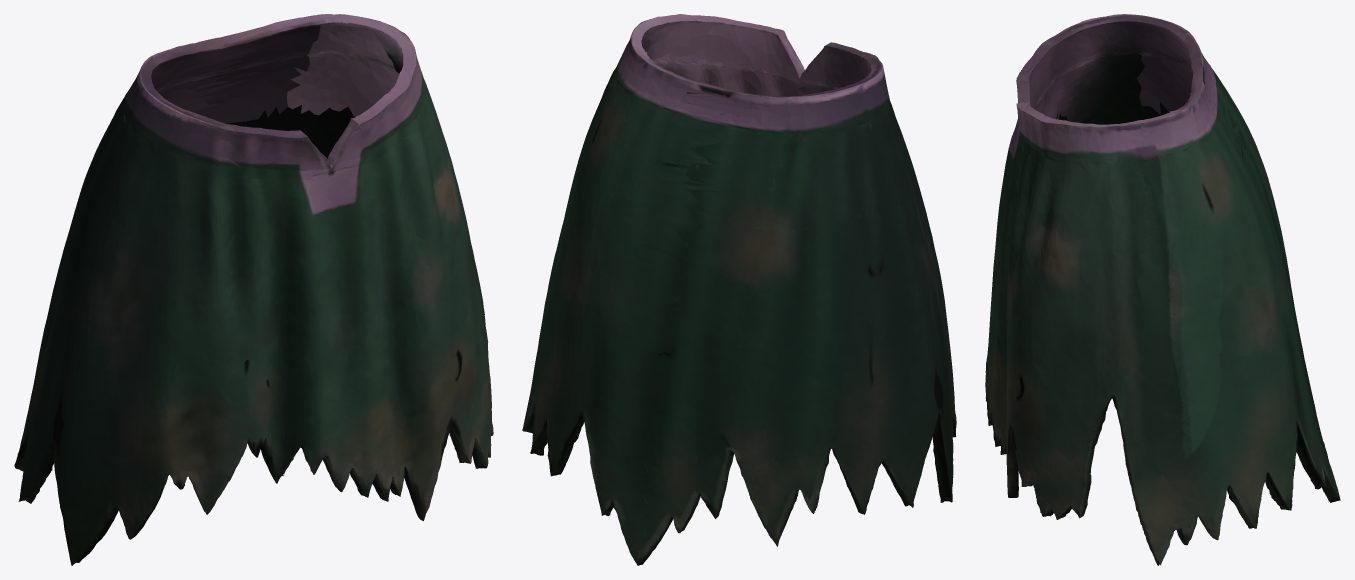
Rendered from skirts.fbx.
The picture shows the model from 3 angles, left to right: view 1: azimuth 30°, elevation 25°; view 2: azimuth 150°, elevation 25°; view 3: azimuth 270°, elevation 25°; orthographic projection. The views are drawn at different scales.
Visible parts, largest first — view 1: Skirt; view 2: Skirt; view 3: Skirt.
Boxes of the visible parts, left/top/right/bottom form: Skirt: left=14, top=14, right=493, bottom=565; Skirt: left=522, top=14, right=956, bottom=565; Skirt: left=985, top=14, right=1340, bottom=565.
Bounding box in the file's own units: 0.5241 × 0.5452 × 0.4066.
